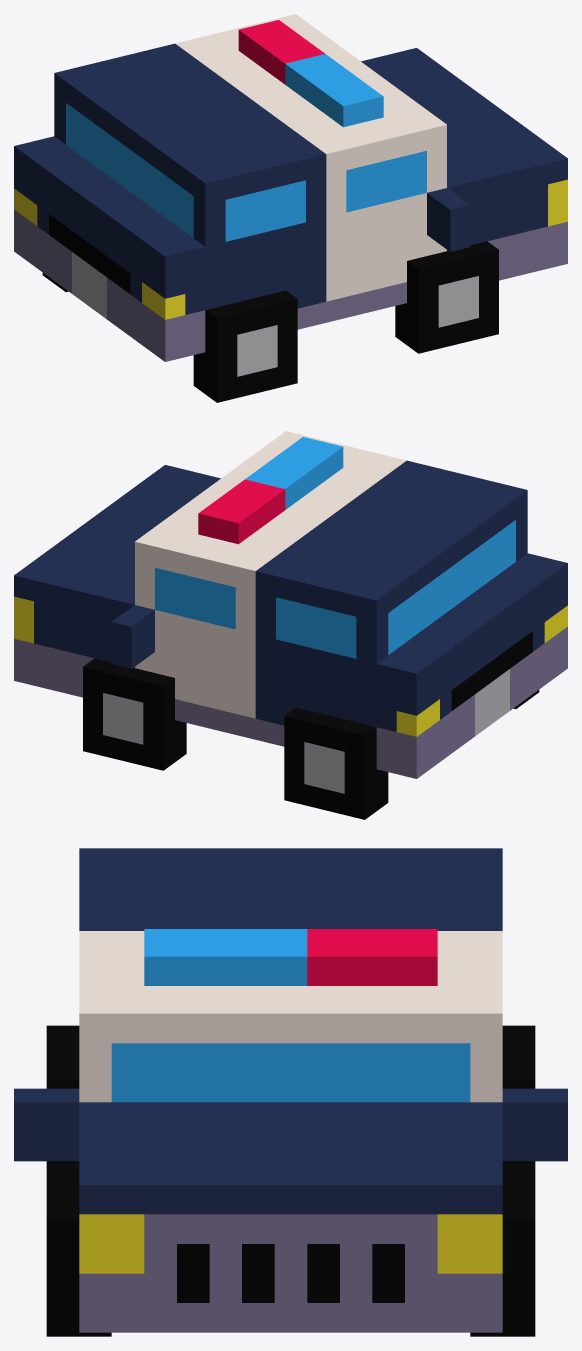
The model's file is police_car.obj.
3 views of the same model, one above another, from view 1: azimuth 30°, elevation 25°; view 2: azimuth 150°, elevation 25°; view 3: azimuth 270°, elevation 25° (orthographic). The views are drawn at different scales.
Bounding box in the file's own units: 2 × 1.1 × 1.7.
Materials: 1 (1 with a texture image).
